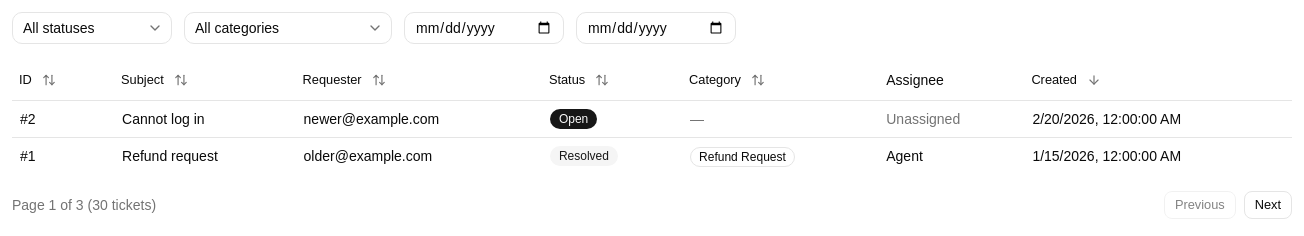
Test: TicketsTable › resets to page 1 when a filter changes while on a later page
Expected: the table is shown, [12, 60, 1292, 174]
Click the button "Next" at coordinates (1268, 204), box [1244, 190, 1292, 218]
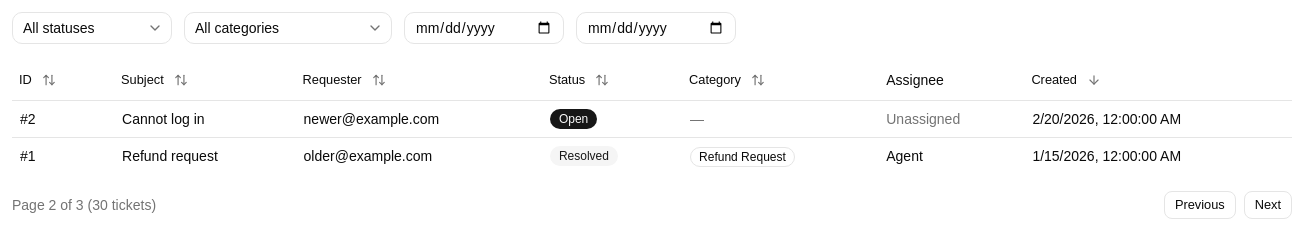
Expected: the text "Page 2 of 3 (30 tickets)" is shown, [12, 194, 156, 214]
Click the dropdown named "Filter by status" at coordinates (92, 28), box [12, 12, 172, 44]
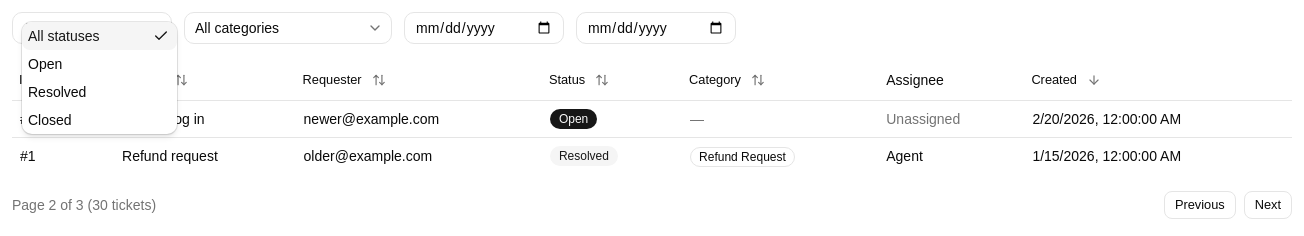
Click the option "Open" at coordinates (45, 64), box [28, 56, 62, 72]
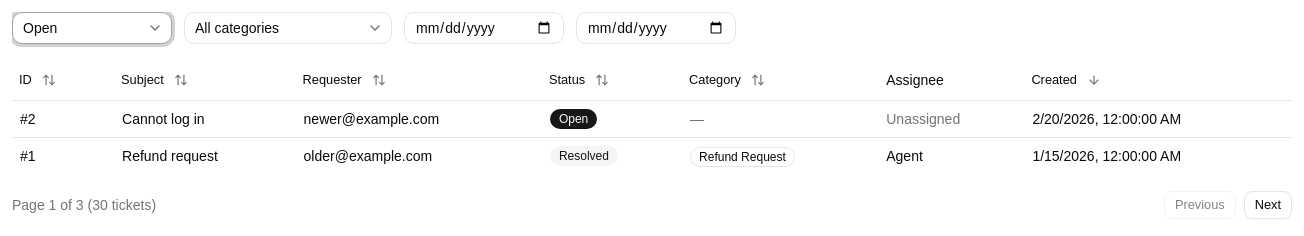
Expected: the text "Page 1 of 3 (30 tickets)" is shown, [12, 194, 156, 214]
